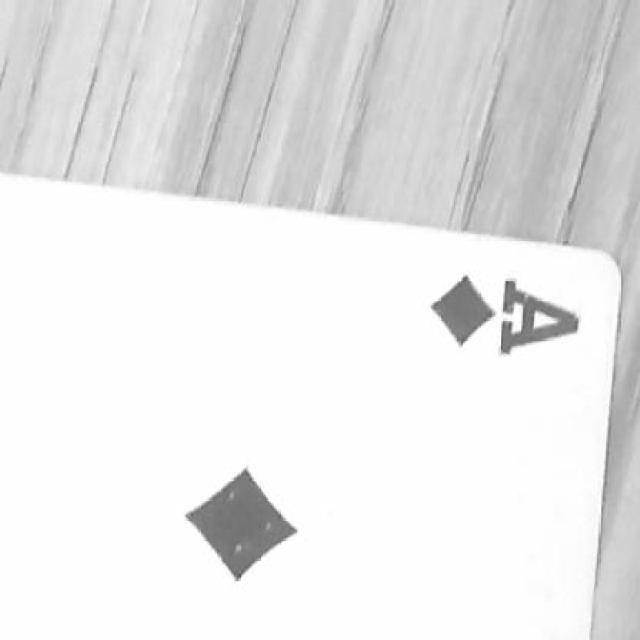AD: (385, 266, 610, 380)
